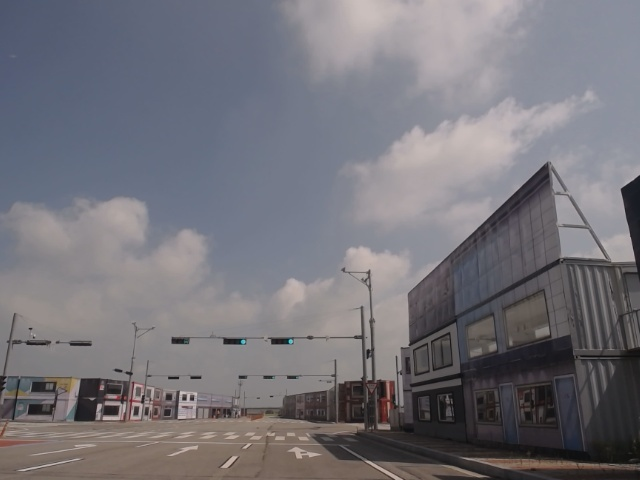straight_green_4: (223, 337, 247, 345), (271, 338, 296, 345)
